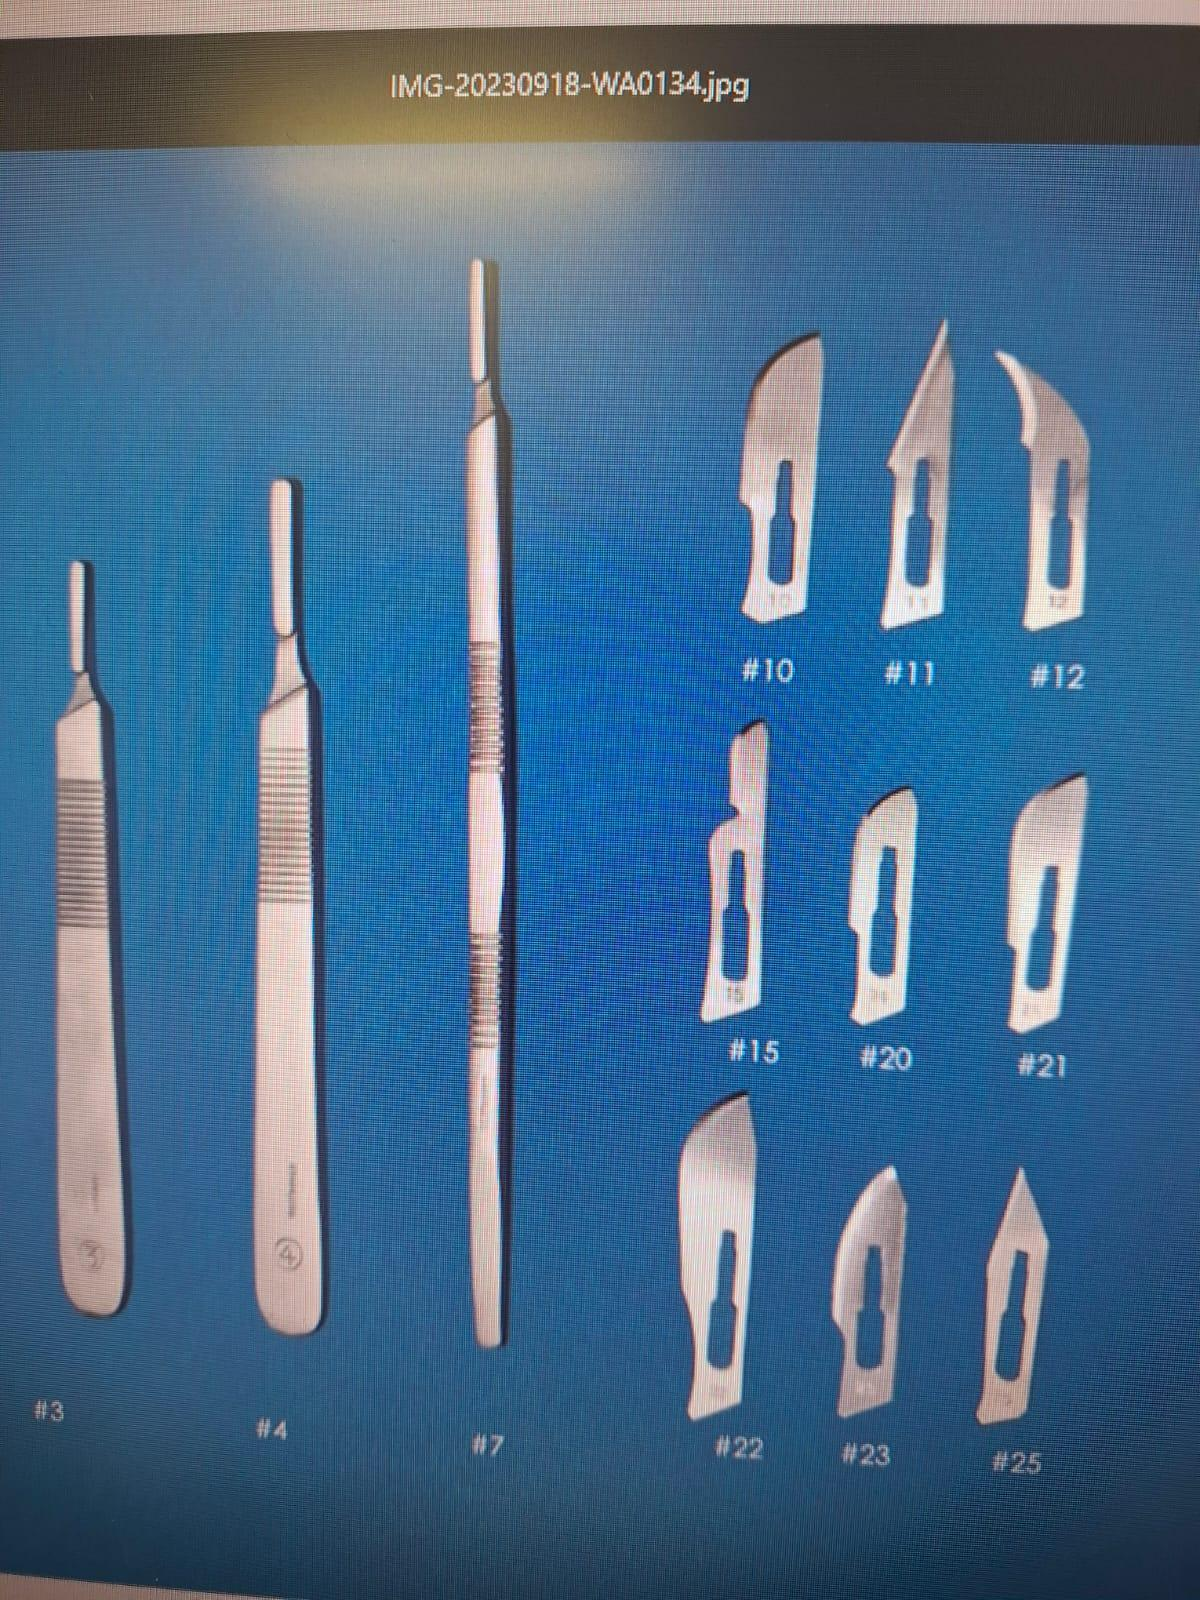Knife Blade: (718, 320, 833, 675), (655, 1080, 767, 1432), (865, 320, 988, 638), (988, 350, 1110, 638), (990, 757, 1098, 1038), (832, 770, 935, 1035), (972, 1162, 1068, 1438), (820, 1152, 915, 1430)
Knife Handle: (240, 472, 372, 1355), (30, 528, 163, 1338)
